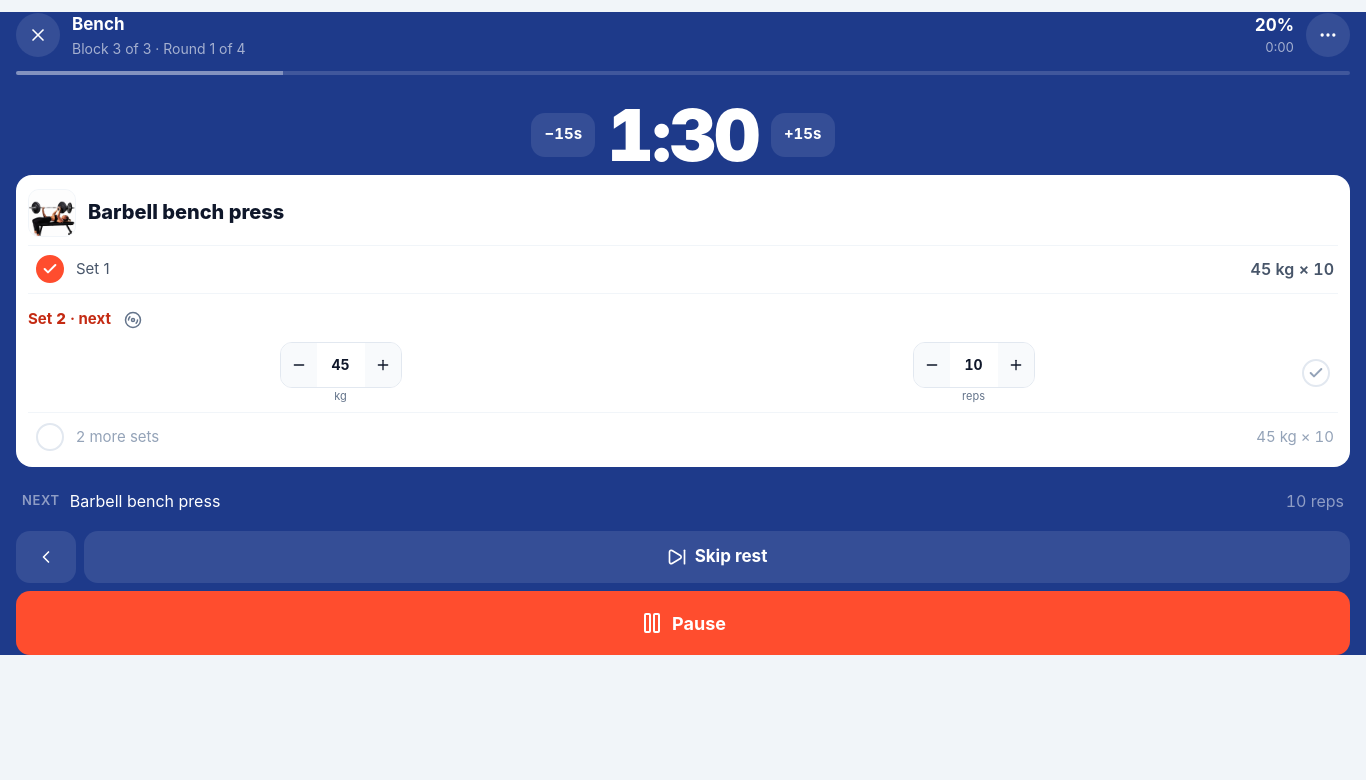
Test case: shows a done set as one line, the next with its steppers, the rest folded
Check: the element named "Set 2 load" is shown, box [280, 342, 402, 388]
Click the button with aria-label "2 more sets, 45 kg × 10" at (108, 436), box [28, 413, 1338, 461]
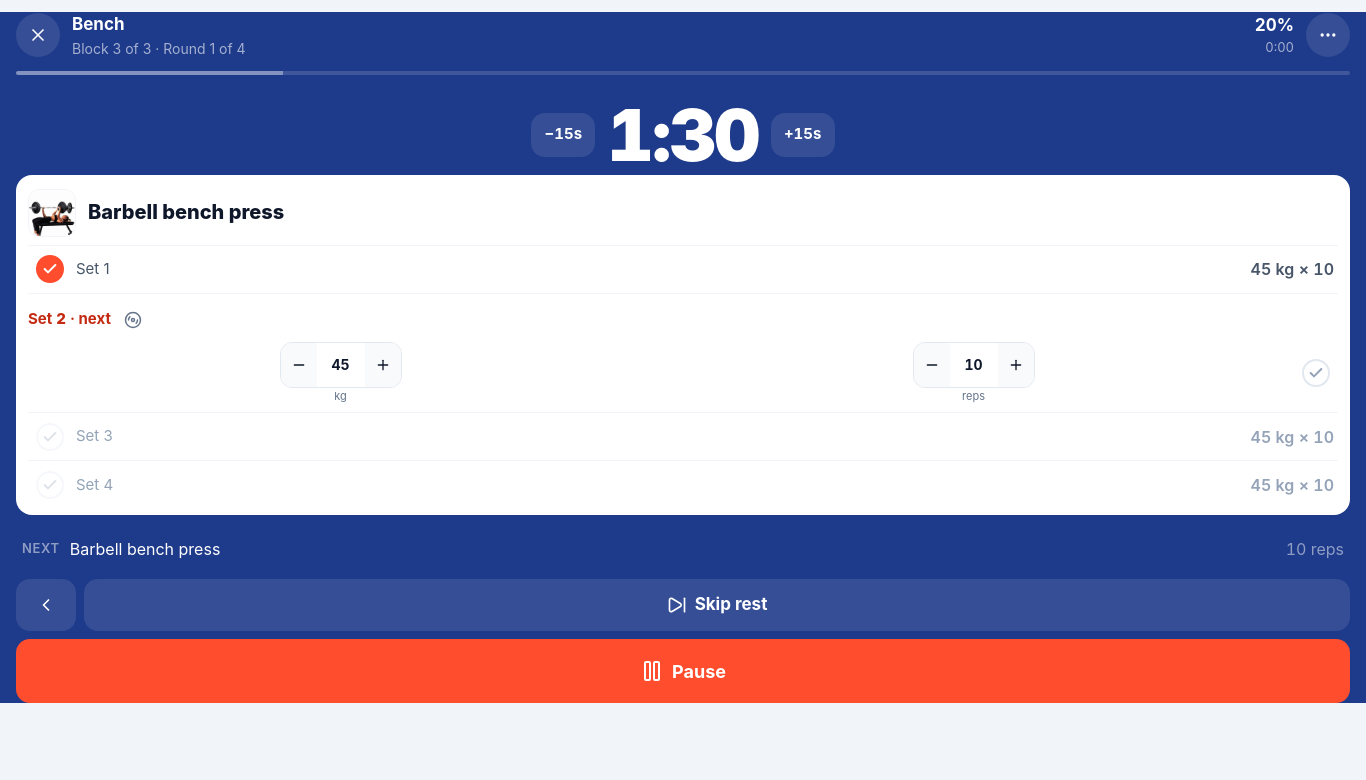
Check: the button named "Tick set 4" is shown, box [28, 463, 72, 507]
Check: the text "Set 3" is shown, box [76, 426, 113, 445]
